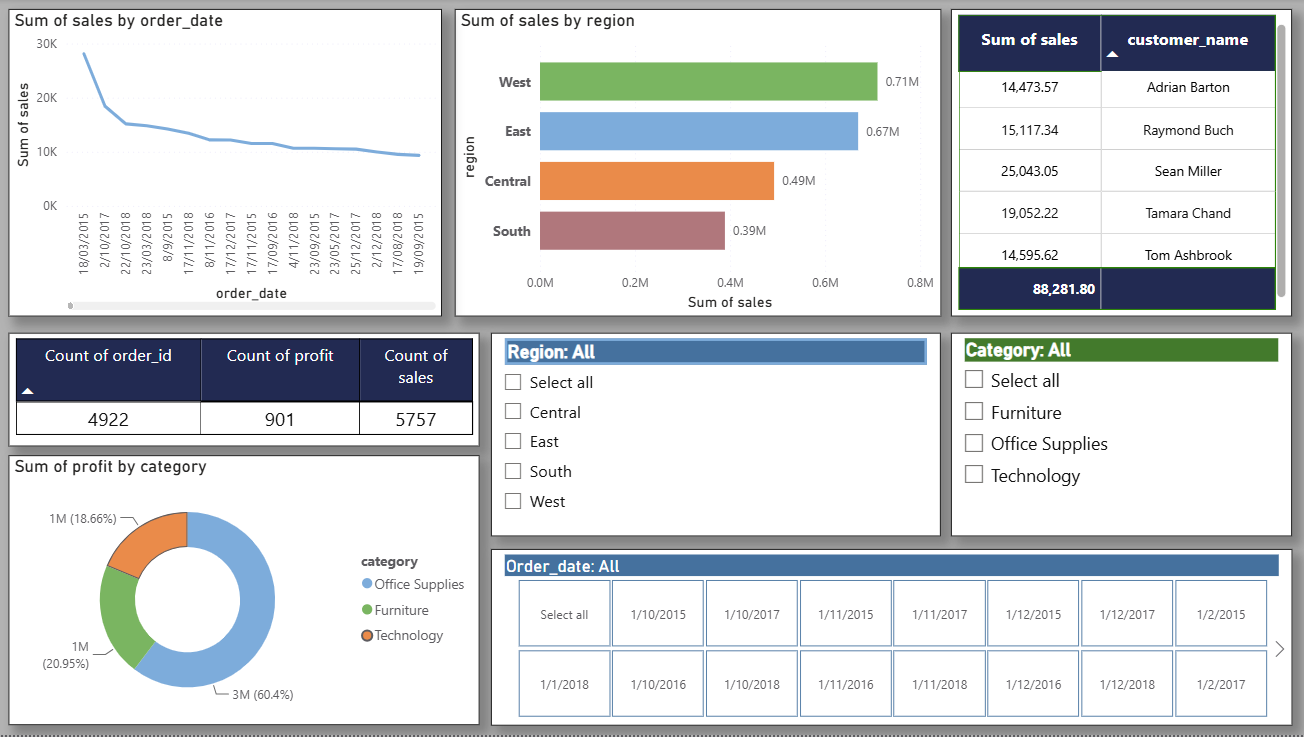

What the dashboard file says about the page in this screenshot:
{"tool":"powerbi","page":{"name":"Page 1","canvas":[1280,720],"ordinal":0},"visuals":[{"type":"tableEx","fields":{"Values":["cleaned_sales_data.order_id","Count(cleaned_sales_data.profit)","Count(cleaned_sales_data.sales)"]},"box":[12.2,326.5,461,111.3],"z":0},{"type":"barChart","fields":{"Category":["cleaned_sales_data.region"],"Y":["Sum(cleaned_sales_data.sales)"]},"box":[448.8,9.8,475.7,300.8],"z":1000},{"type":"lineChart","fields":{"Y":["Sum(cleaned_sales_data.sales)"],"Category":["cleaned_sales_data.order_date"]},"box":[12.2,9.8,424.3,300.8],"z":2000},{"type":"donutChart","fields":{"Category":["cleaned_sales_data.category"],"Y":["Sum(cleaned_sales_data.profit)"]},"box":[12.2,446.3,461,264.1],"z":3000},{"type":"tableEx","fields":{"Values":["Sum(cleaned_sales_data.sales)","cleaned_sales_data.customer_name"]},"box":[934.2,9.8,333.8,300.8],"z":4000},{"type":"slicer","fields":{"Values":["cleaned_sales_data.region"]},"box":[484.2,326.5,440.2,199.3],"z":5000},{"type":"slicer","fields":{"Values":["cleaned_sales_data.category"]},"box":[934.2,326.5,333.8,199.3],"z":6000},{"type":"slicer","fields":{"Values":["cleaned_sales_data.order_date"]},"box":[484.2,538,783.8,172.4],"z":7000}]}

Visuals, with their boxes in screenshot pixels (x1, y1, x2, y2), scaled from the page's 1280x720 canvas onto the 1304x737 screenshot:
tableEx - cleaned_sales_data.order_id x Count(cleaned_sales_data.profit): [12, 334, 482, 448]
barChart - cleaned_sales_data.region x Sum(cleaned_sales_data.sales): [457, 10, 942, 318]
lineChart - Sum(cleaned_sales_data.sales) x cleaned_sales_data.order_date: [12, 10, 445, 318]
donutChart - cleaned_sales_data.category x Sum(cleaned_sales_data.profit): [12, 457, 482, 727]
tableEx - Sum(cleaned_sales_data.sales) x cleaned_sales_data.customer_name: [952, 10, 1292, 318]
slicer - cleaned_sales_data.region: [493, 334, 942, 538]
slicer - cleaned_sales_data.category: [952, 334, 1292, 538]
slicer - cleaned_sales_data.order_date: [493, 551, 1292, 727]
